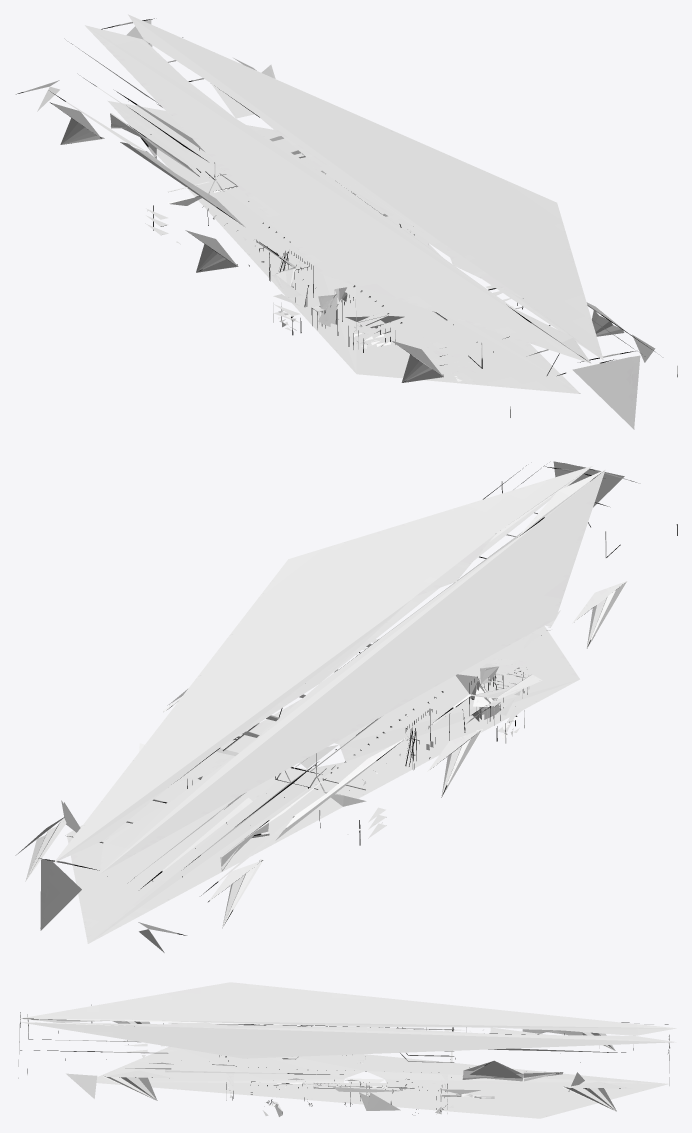
The model's file is hangar_long_lod1.glb.
3 renders of one model, top to bottom at view 1: azimuth 30°, elevation 25°; view 2: azimuth 150°, elevation 25°; view 3: azimuth 270°, elevation 25°, orthographic. The views are drawn at different scales.
Visible parts, largest first — view 1: hangar_long; view 2: hangar_long; view 3: hangar_long.
Boxes of the visible parts, x1,y1,x2,y2 form: hangar_long: (16,14,677,429); hangar_long: (15,461,677,952); hangar_long: (18,982,676,1118).
Bounding box in the file's own units: 40.21 × 14.76 × 132.
1 material, 1 textured.
